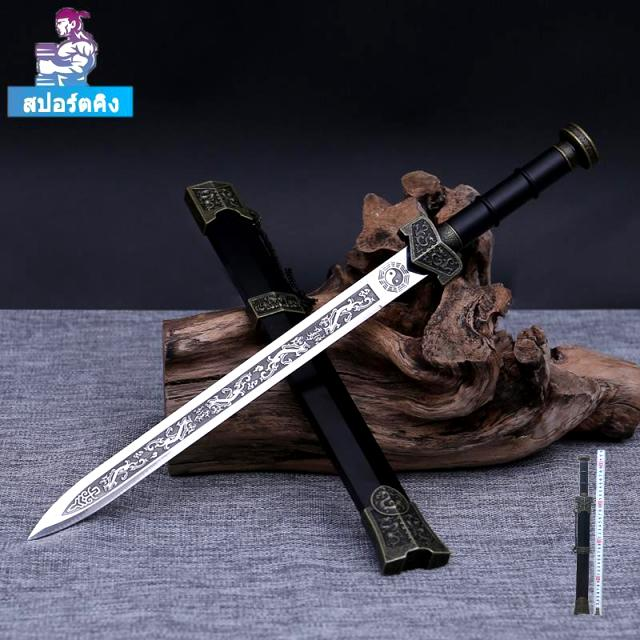short sword: (19, 118, 640, 618)
